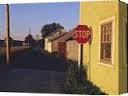stop_sign: (72, 25, 92, 45)
